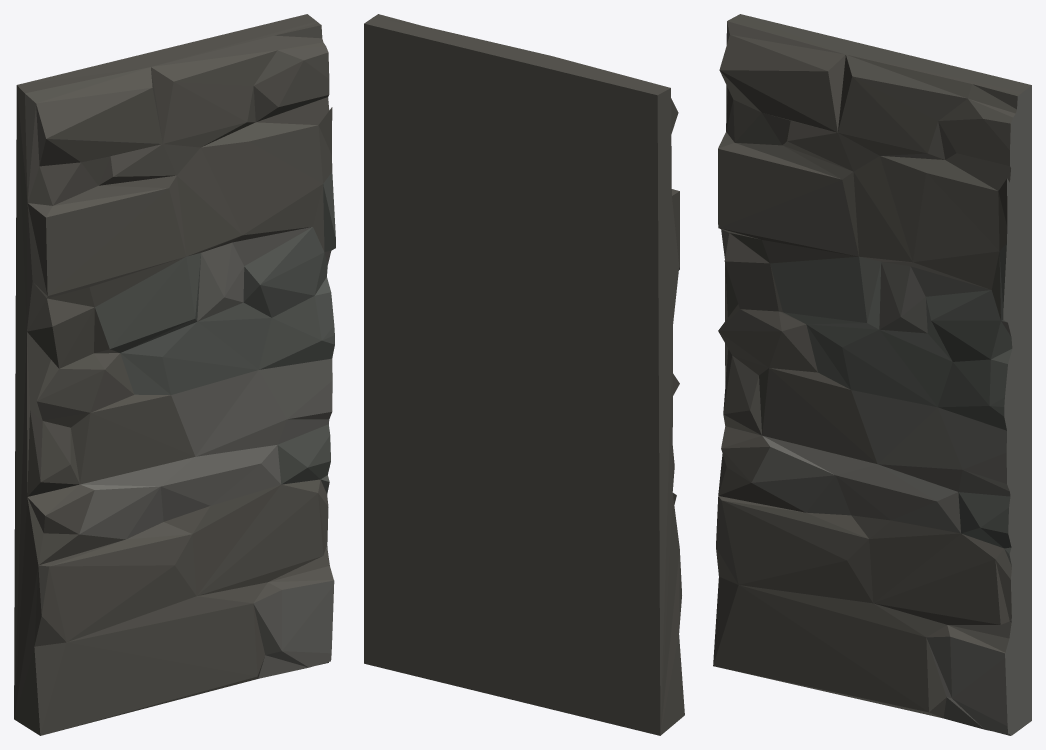
Rendered from MDungeons_Walls_Base_Sidehalf.FBX.
3 views of the same model, side by side, from view 1: azimuth 30°, elevation 25°; view 2: azimuth 150°, elevation 25°; view 3: azimuth 330°, elevation 25° (orthographic).
Visible parts, largest first — view 1: MDungeons_Walls_Base_Sidehalf_LOD0; view 2: MDungeons_Walls_Base_Sidehalf_LOD0; view 3: MDungeons_Walls_Base_Sidehalf_LOD0.
Boxes of the visible parts, x1,y1,x2,y2 form: MDungeons_Walls_Base_Sidehalf_LOD0: [14, 14, 335, 735]; MDungeons_Walls_Base_Sidehalf_LOD0: [364, 14, 684, 735]; MDungeons_Walls_Base_Sidehalf_LOD0: [713, 14, 1031, 735].
Size of what is drawn, in the model's own units: 2.89 by 5.97 by 0.4866.
